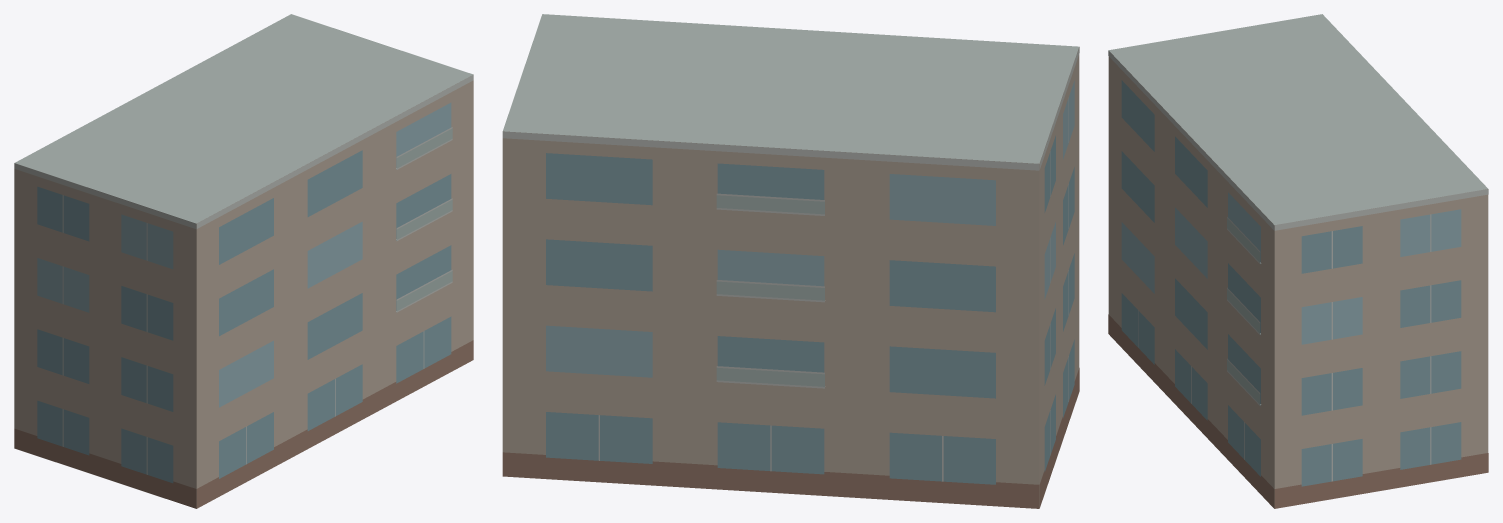
The model's file is residential-54c07ecd-5f03-4627-830a-93555cbd088c.glb.
3 renders of one model, left to right at view 1: azimuth 30°, elevation 25°; view 2: azimuth 150°, elevation 25°; view 3: azimuth 270°, elevation 25°, orthographic. The views are drawn at different scales.
Parts seen in each view (by area): view 1: residential-54c07ecd-5f03-4627-830a-93555cbd088c.tmp; view 2: residential-54c07ecd-5f03-4627-830a-93555cbd088c.tmp; view 3: residential-54c07ecd-5f03-4627-830a-93555cbd088c.tmp.
Boxes of the visible parts, x1,y1,x2,y2 form: residential-54c07ecd-5f03-4627-830a-93555cbd088c.tmp: (14,14,473,508); residential-54c07ecd-5f03-4627-830a-93555cbd088c.tmp: (502,14,1079,508); residential-54c07ecd-5f03-4627-830a-93555cbd088c.tmp: (1108,14,1488,508).
Size of the model in its own units: 19.48 by 12.2 by 14.82.
